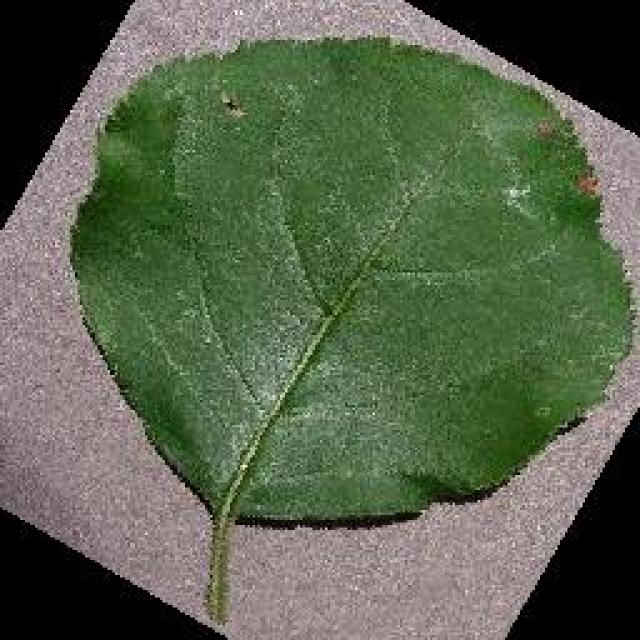Black_rot: (65, 30, 635, 625)
